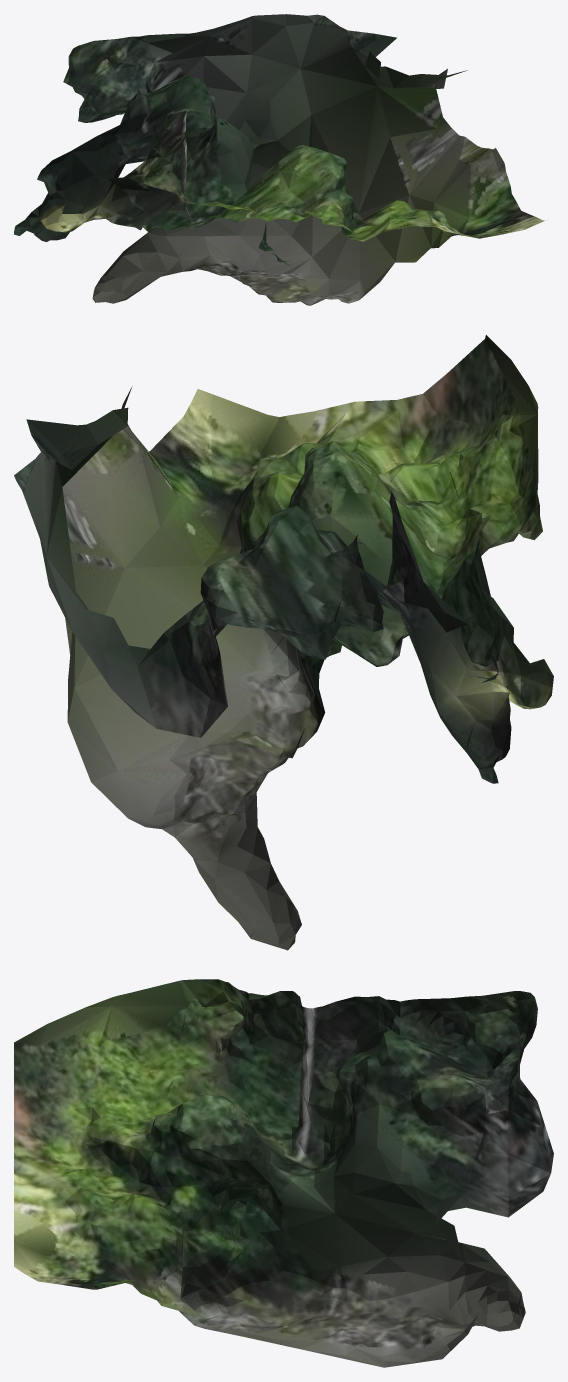
The picture shows the model from 3 angles, top to bottom: view 1: azimuth 30°, elevation 25°; view 2: azimuth 150°, elevation 25°; view 3: azimuth 270°, elevation 25°; orthographic projection. The views are drawn at different scales.
Bounding box in the file's own units: 25.28 × 16.3 × 25.12.
Materials: 4 (4 with a texture image).
